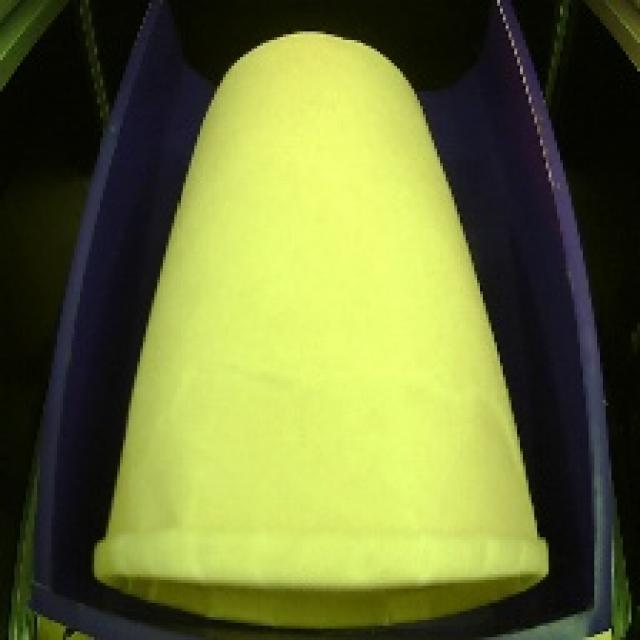cups: (84, 23, 564, 635)
